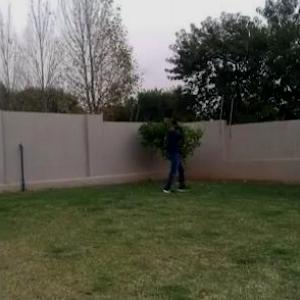follow: (165, 114, 187, 201)
